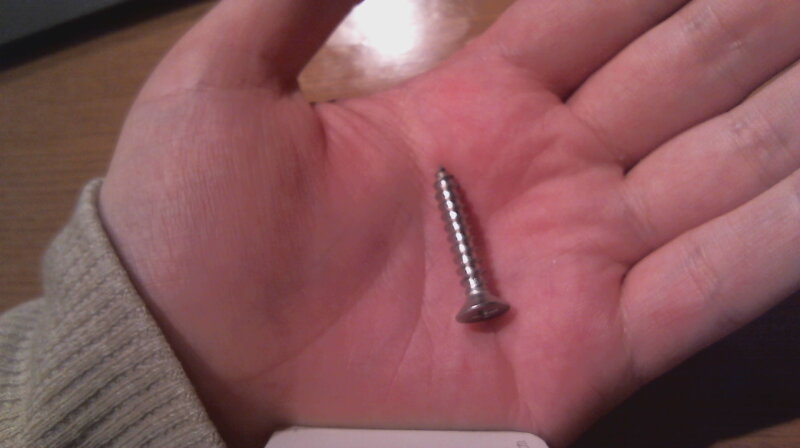S001: (433, 159, 519, 326)
